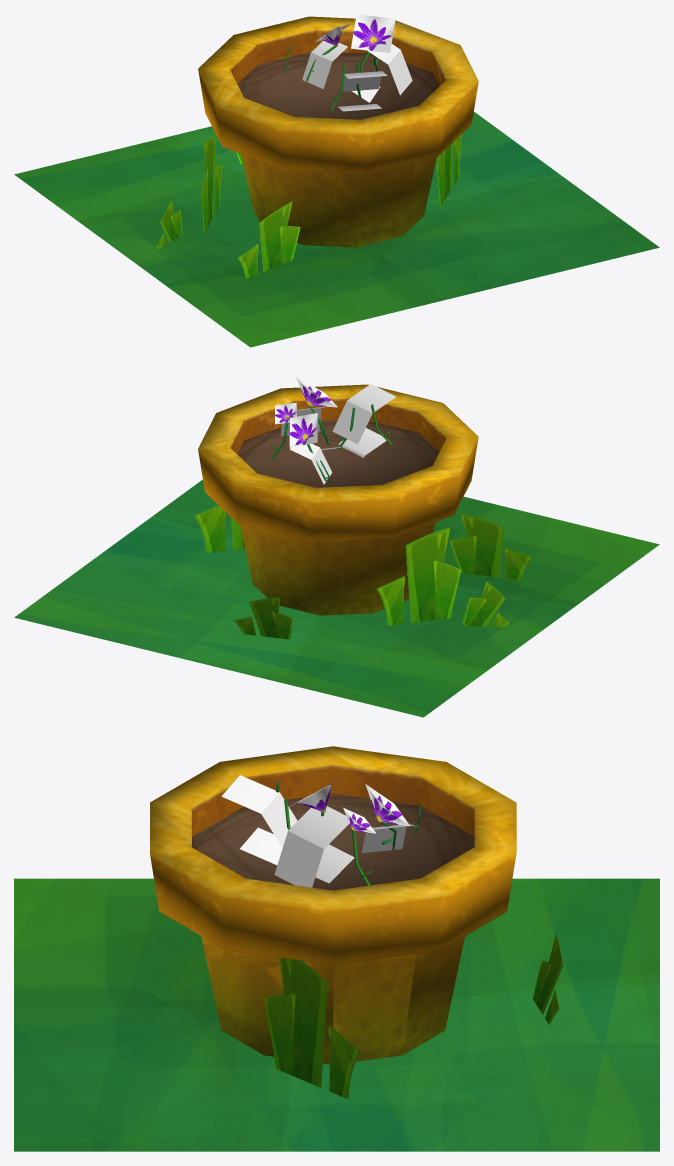
The model's file is purpleflower3.obj.
3 renders of one model, top to bottom at view 1: azimuth 30°, elevation 25°; view 2: azimuth 150°, elevation 25°; view 3: azimuth 270°, elevation 25°, orthographic. The views are drawn at different scales.
Parts seen in each view (by area): view 1: Stylizedplants_model.003; view 2: Stylizedplants_model.003; view 3: Stylizedplants_model.003.
Boxes of the visible parts, x1,y1,x2,y2 form: Stylizedplants_model.003: (14, 14, 659, 347); Stylizedplants_model.003: (14, 376, 659, 717); Stylizedplants_model.003: (14, 746, 659, 1151).
Bounding box in the file's own units: 45.19 × 21.6 × 45.19.
2 materials, 2 textured.
